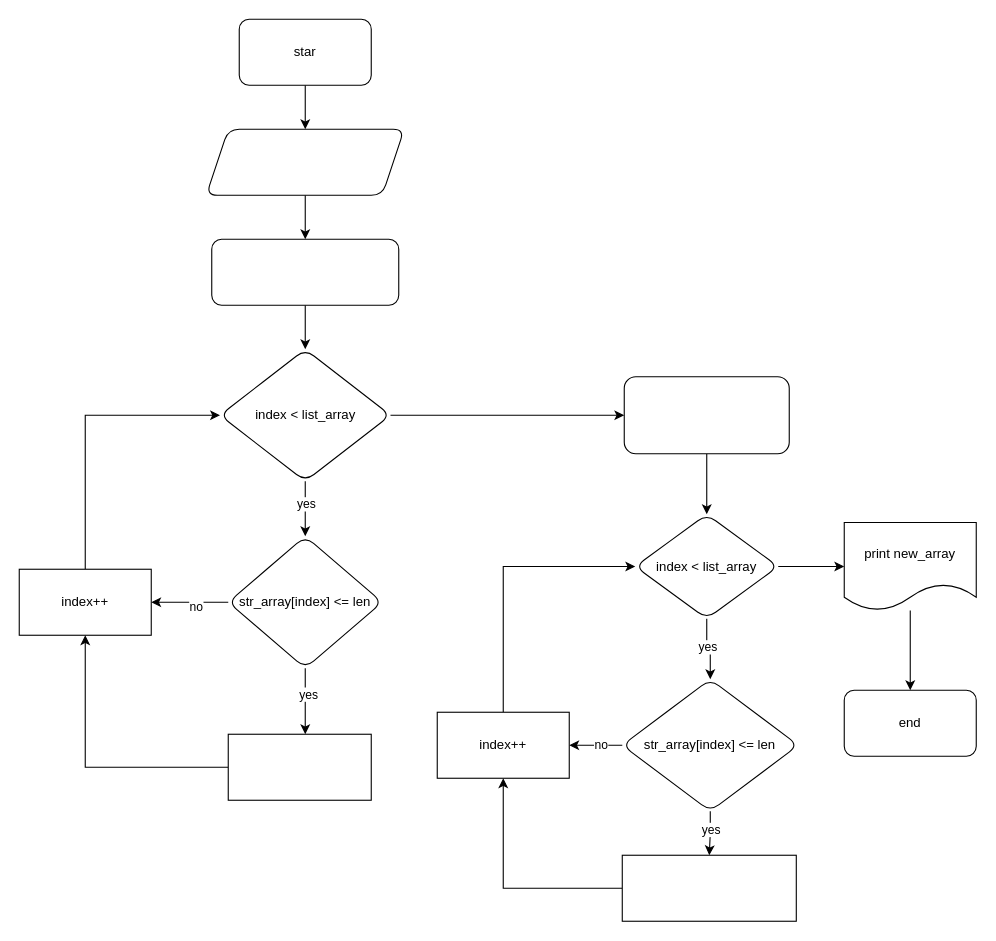
Some shapes in this 996 by 941 pixel diagram are drawn without their labels. The centre of each missing label's shape, as x and y in pixels:
"count = 0 index = 0 len = 3" goes at (305,271).
"count++" goes at (299,766).
"list_array str_array" goes at (304,161).
"new_array.size = count index = 0 index2 = 0" goes at (706,415).
"new_array[index2] = array[index] index2++" goes at (708,887).
